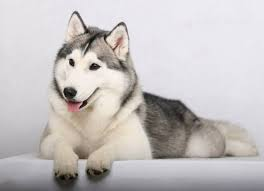Bulldog: (18, 8, 260, 182)
